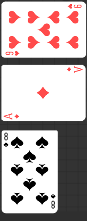8C: (50, 192, 57, 209)
AD: (3, 111, 21, 120)
